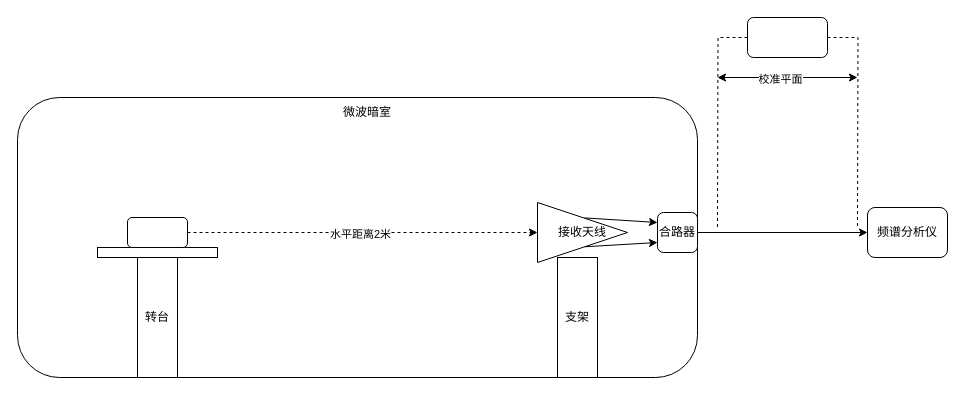
Some shapes in this 965 by 395 pixel diagram are drawn without their labels. The shapes that lost their labels are listed below. From the top down, each one's centre as x and y in pixels, then its label:
At (787,37): "矢网".
At (157,232): "被测件".
